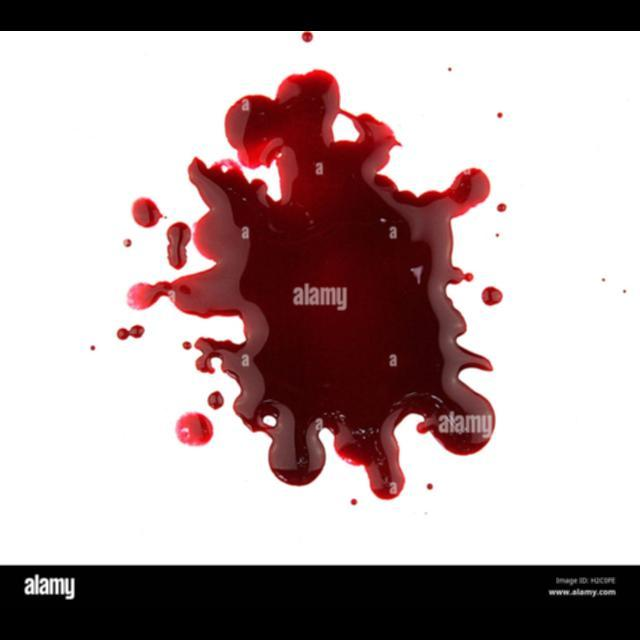blood: (127, 69, 495, 501), (175, 411, 213, 447), (166, 222, 191, 270), (131, 197, 163, 228), (117, 325, 145, 340), (481, 287, 503, 306), (207, 391, 224, 410)
